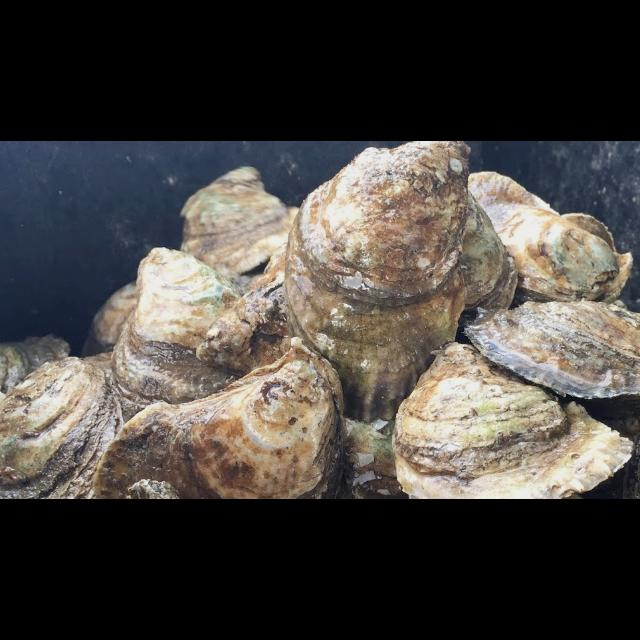Oyster-Closed: (285, 141, 471, 425), (93, 339, 346, 500), (392, 343, 633, 500), (468, 171, 633, 303), (111, 248, 248, 406), (0, 353, 125, 500), (466, 301, 640, 399), (181, 167, 298, 275), (197, 258, 288, 375), (459, 191, 519, 331), (336, 420, 410, 500), (0, 334, 70, 402), (93, 282, 137, 348), (560, 213, 615, 251)
